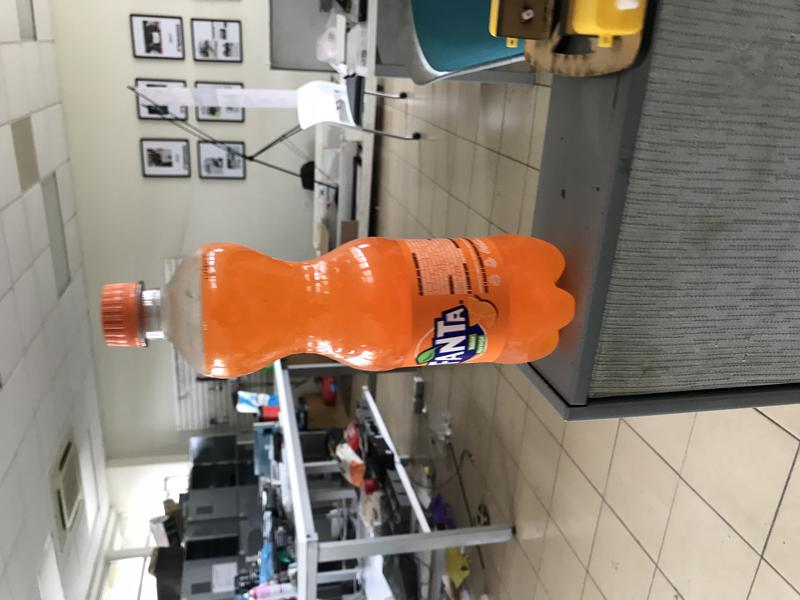fanta: (102, 236, 575, 380)
